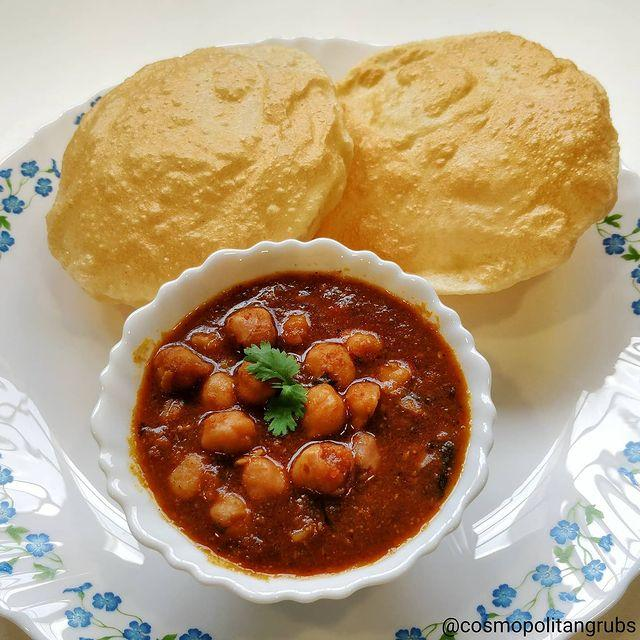Chole: (138, 302, 396, 558)
